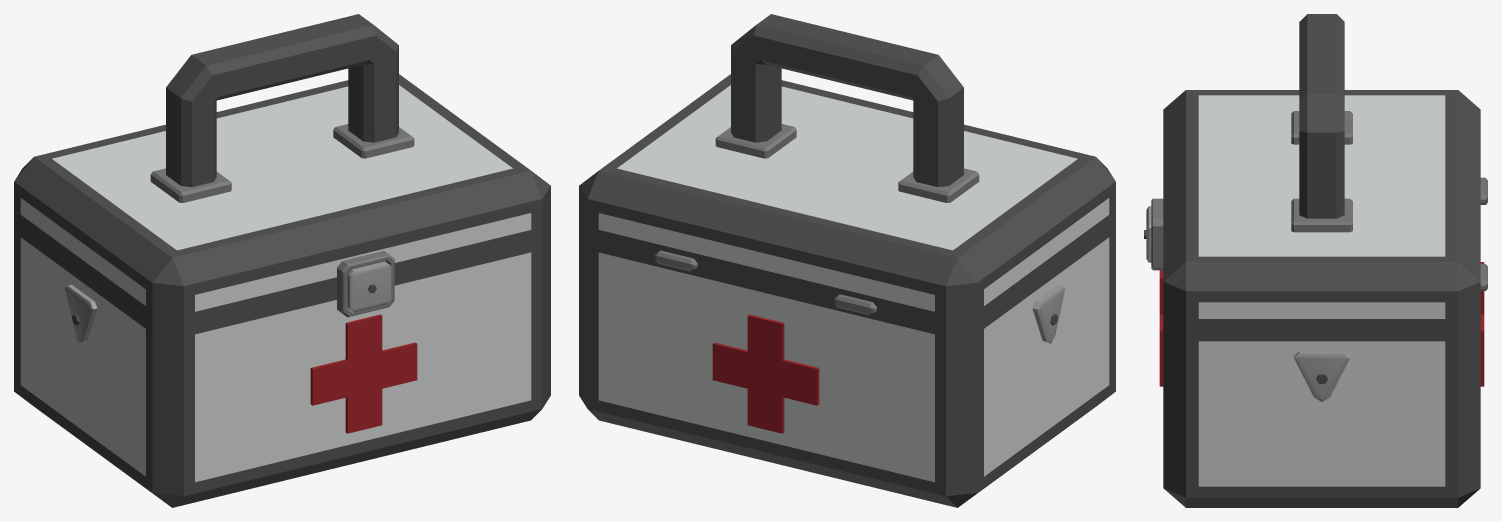
The model's file is First Aid Kit 01.fbx.
3 renders of one model, left to right at view 1: azimuth 30°, elevation 25°; view 2: azimuth 150°, elevation 25°; view 3: azimuth 270°, elevation 25°, orthographic.
Visible parts, largest first — view 1: First_Aid_Kit_01; view 2: First_Aid_Kit_01; view 3: First_Aid_Kit_01.
Boxes of the visible parts, box(x1,y1,x2,y2) form: First_Aid_Kit_01: box(14, 14, 550, 507); First_Aid_Kit_01: box(579, 14, 1115, 507); First_Aid_Kit_01: box(1144, 14, 1487, 507).
Bounding box in the file's own units: 55.53 × 47.73 × 40.47.
